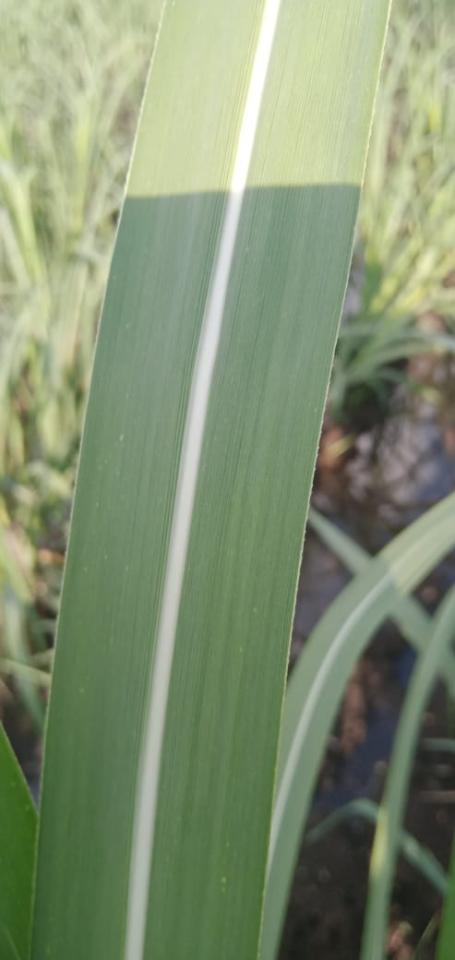Healthy: (143, 0, 390, 959), (28, 0, 267, 959), (0, 726, 36, 959)
